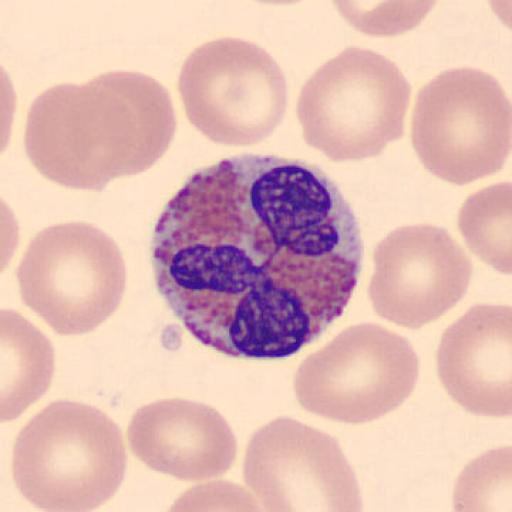RBC: (294, 44, 413, 164), (14, 218, 130, 338), (10, 396, 129, 512), (292, 320, 422, 426), (176, 35, 290, 148), (22, 79, 136, 192), (409, 64, 512, 188), (241, 413, 365, 512), (367, 221, 475, 330), (77, 68, 178, 178), (126, 394, 240, 485), (435, 301, 512, 418), (1, 308, 57, 423), (456, 179, 512, 279), (329, 0, 441, 39), (451, 443, 512, 512), (163, 478, 272, 512), (0, 60, 18, 166), (2, 193, 22, 275), (488, 1, 512, 33)
WBC: (148, 155, 365, 360)
